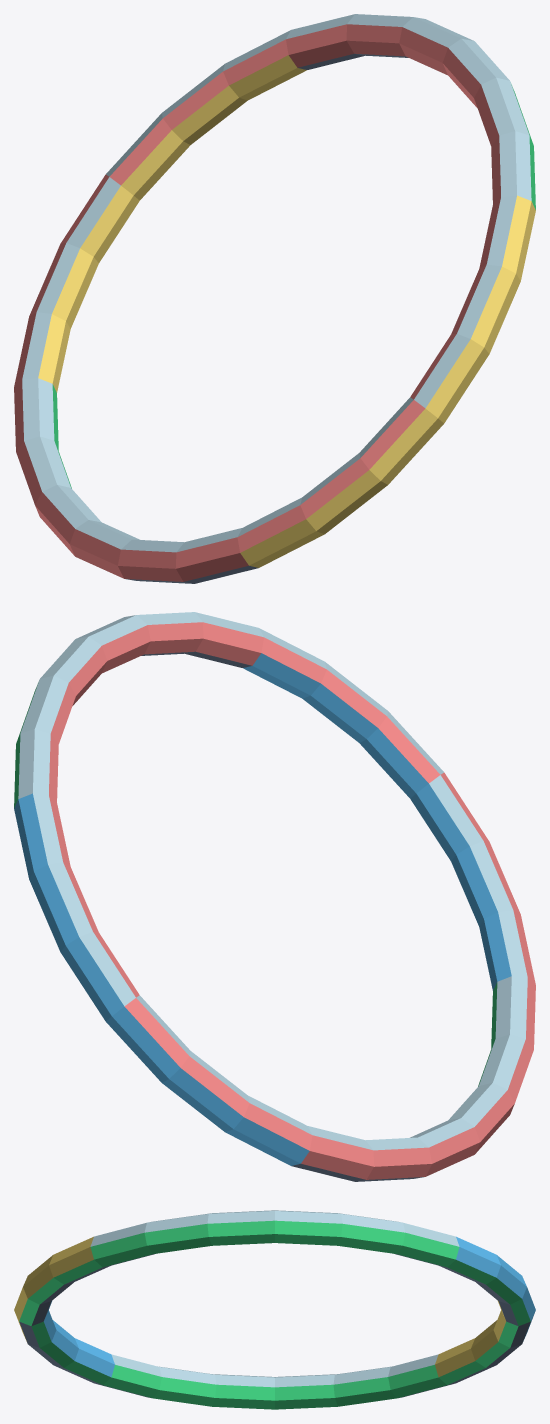
The model's file is pylon_ring_2.obj.
3 renders of one model, top to bottom at view 1: azimuth 30°, elevation 25°; view 2: azimuth 150°, elevation 25°; view 3: azimuth 270°, elevation 25°, orthographic. The views are drawn at different scales.
Visible parts, largest first — view 1: torus; view 2: torus; view 3: torus.
Boxes of the visible parts, <box> form: torus: <box>14,14,535,583</box>; torus: <box>14,612,535,1181</box>; torus: <box>14,1210,535,1409</box>.
Size of the model in its own units: 0.3406 by 0.3406 by 0.4688.
1 material, 1 textured.
